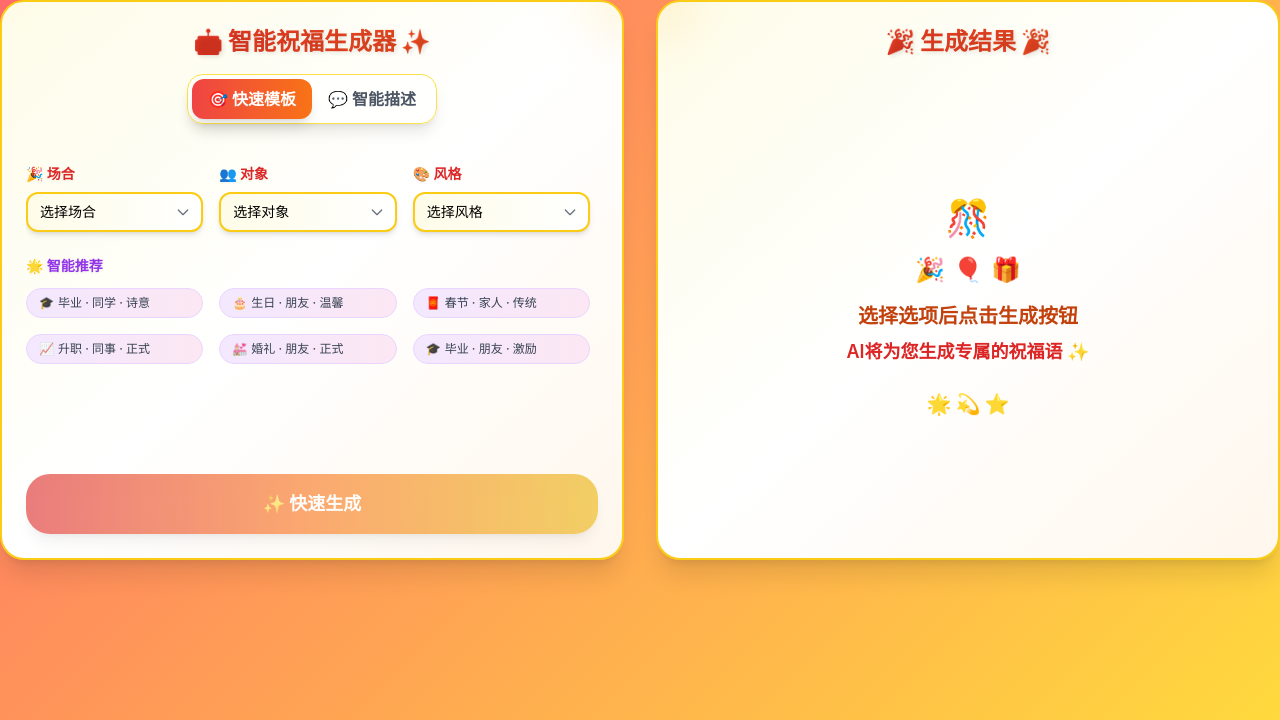
Test: BlessingGenerator › successfully copies blessing to clipboard
The image size is (1280, 720).
// Generate a blessing first
Click the button "💬 智能描述" at coordinates (372, 99), box top-left (312, 79), bottom-right (432, 119)
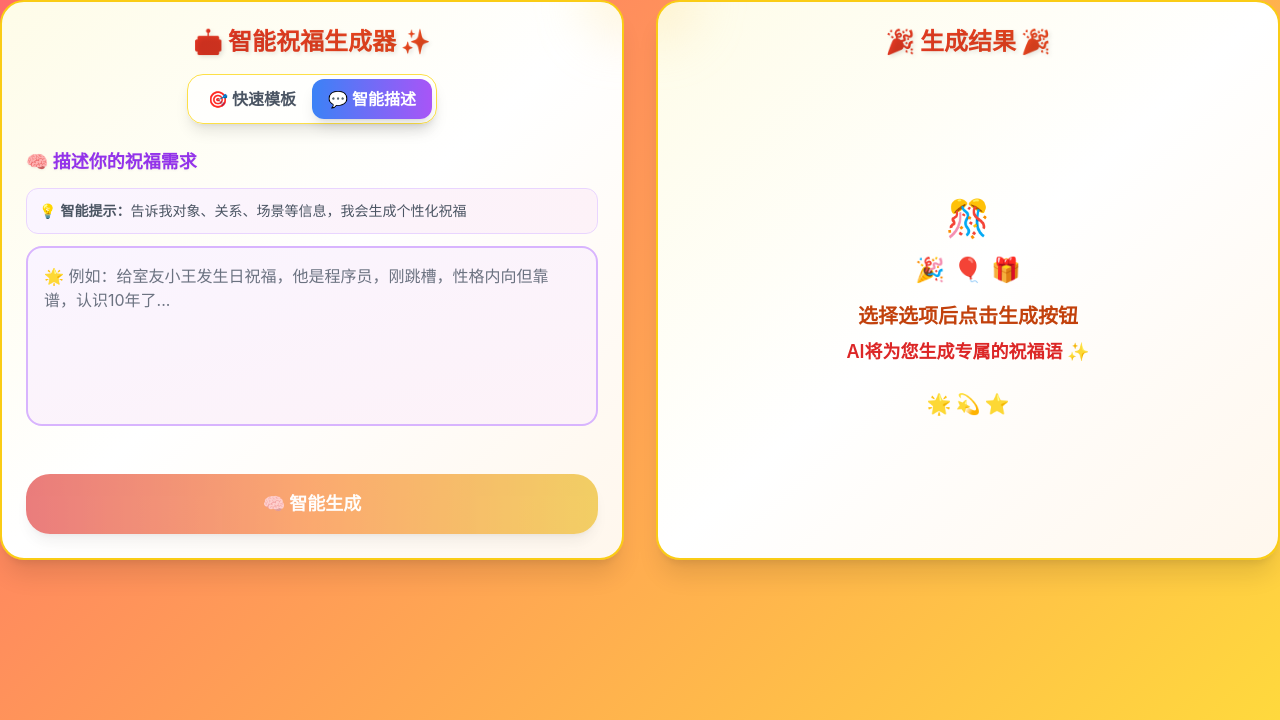
Type "生日祝福" into the text box with placeholder "🌟 例如：给室友小王发生日祝福，他是程序员，刚跳槽，性格内向但靠谱，认识10年了..." at coordinates (312, 336), box top-left (26, 246), bottom-right (598, 426)
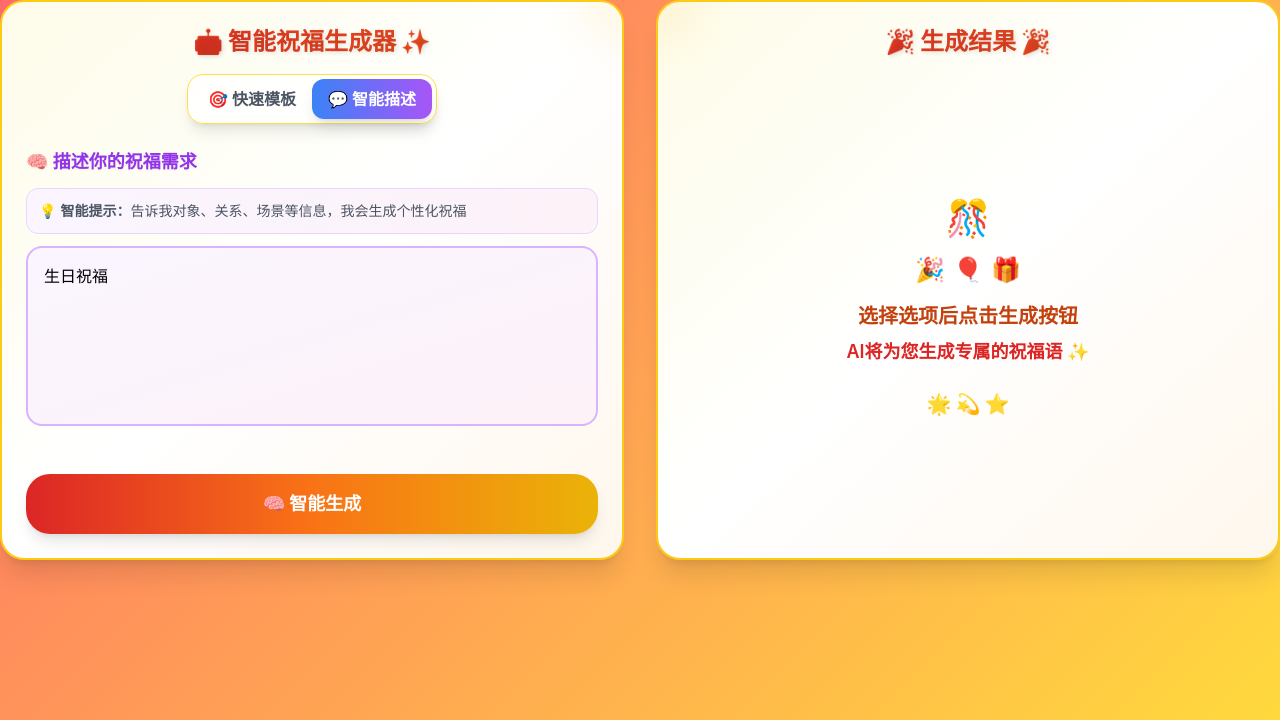
Click the button with aria-label "根据你的描述生成个性化祝福语" at coordinates (312, 504), box top-left (26, 474), bottom-right (598, 534)
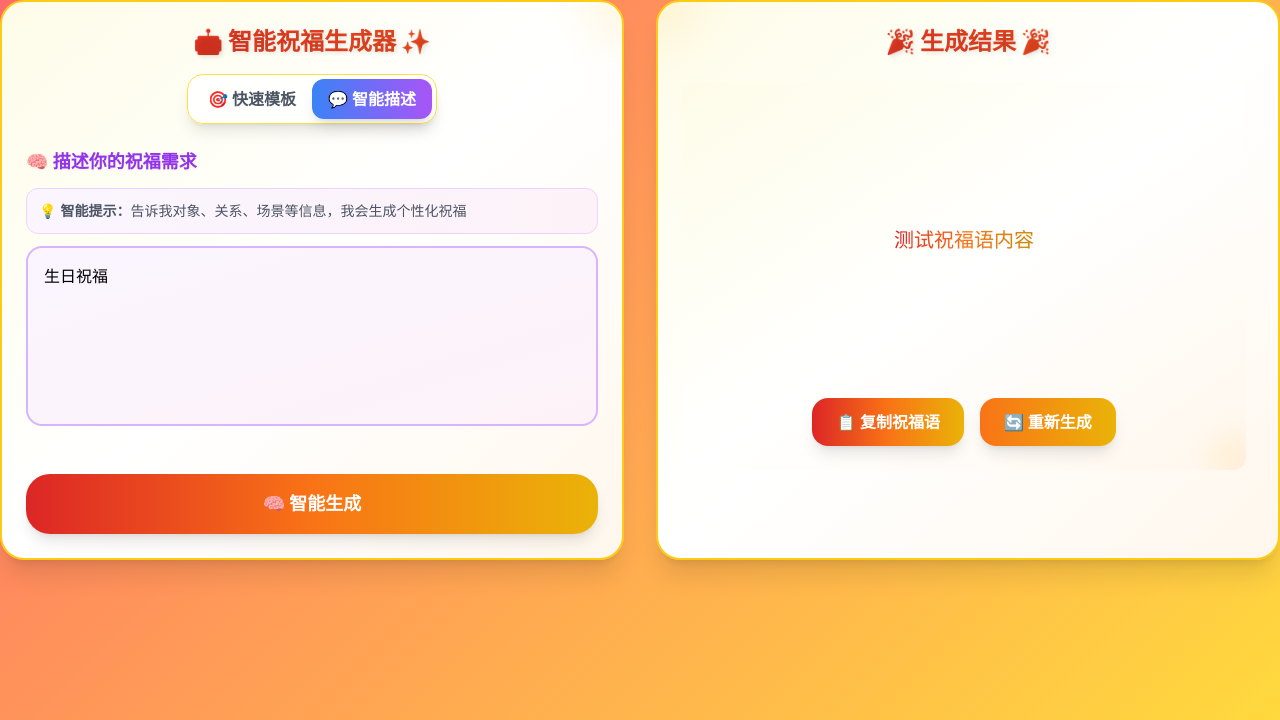
Expected: the text "测试祝福语内容" is shown, top-left (894, 224), bottom-right (1034, 256)
// Click copy button
Click the button with aria-label "复制生成的祝福语到剪贴板" at coordinates (888, 422), box top-left (812, 398), bottom-right (964, 446)
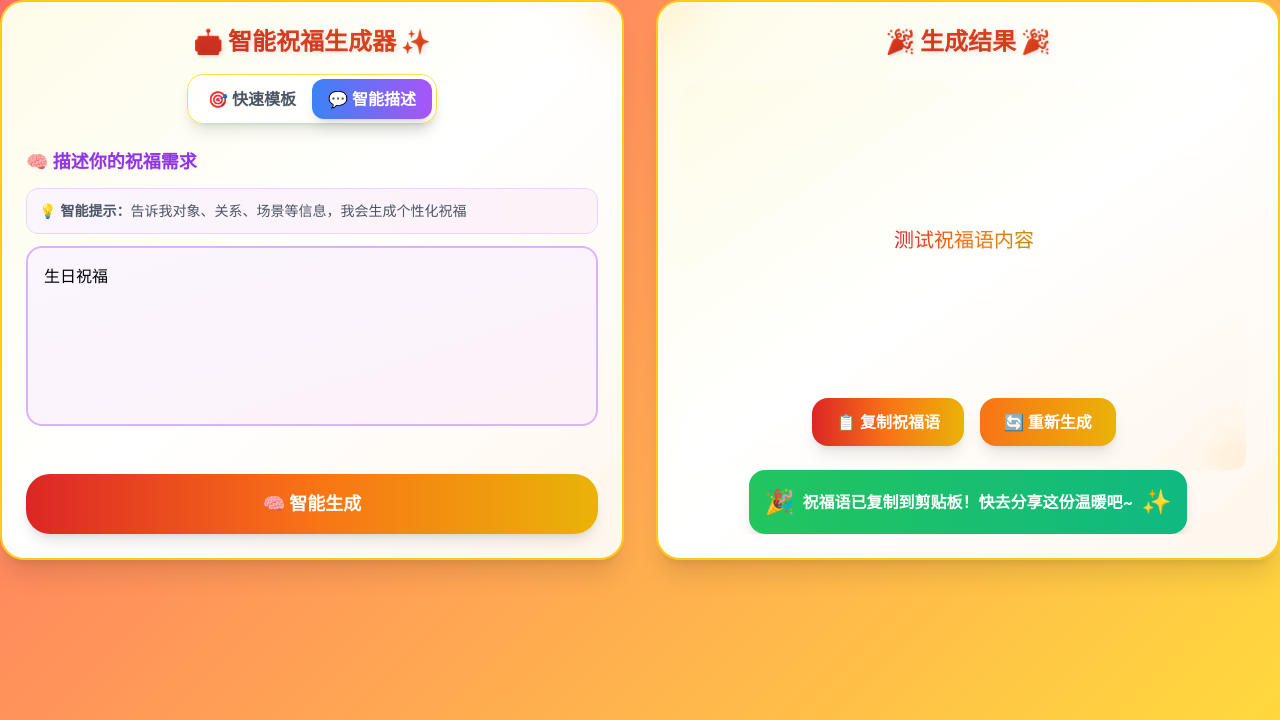
Expected: the text "祝福语已复制到剪贴板！快去分享这份温暖吧~" is shown, top-left (803, 490), bottom-right (1133, 514)
